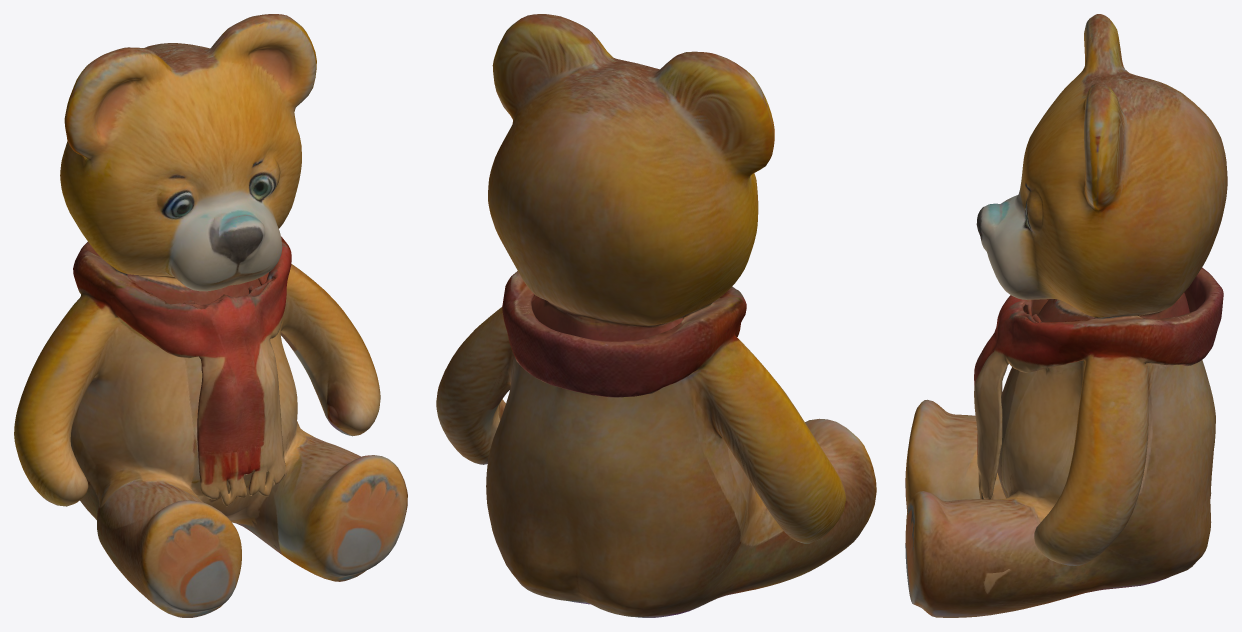
File: realistic bear 2.glb
3 renders of one model, left to right at view 1: azimuth 30°, elevation 25°; view 2: azimuth 150°, elevation 25°; view 3: azimuth 270°, elevation 25°, orthographic. The views are drawn at different scales.
Parts seen in each view (by area): view 1: file1; view 2: file1; view 3: file1.
Part boxes in pixels (x1=…): file1: x1=14, y1=14, x2=407, y2=617; file1: x1=436, y1=14, x2=876, y2=617; file1: x1=905, y1=14, x2=1227, y2=617.
Bounding box in the file's own units: 1.44 × 2 × 1.12.
Materials: 1 (1 with a texture image).
